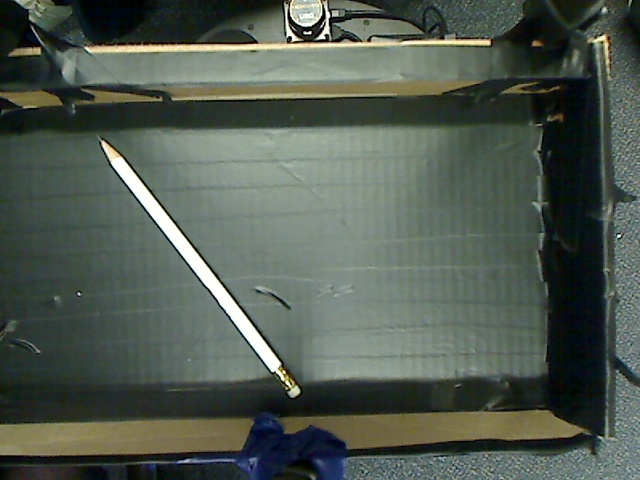pencil: (86, 125, 306, 408)
